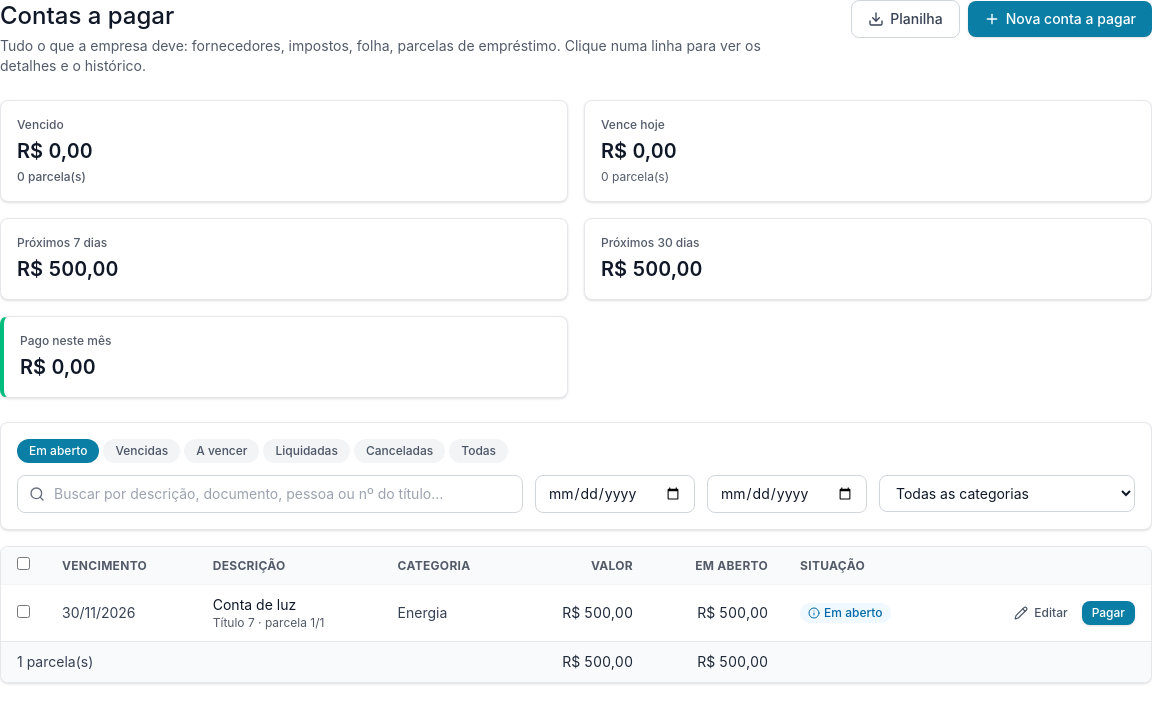
Test: Contas a pagar › pagar em lote: registra as selecionadas, avisa quantas e busca de novo
The image size is (1152, 720).
Expected: the text "Conta de luz" is shown, [213,596,296,613]
Click the checkbox named "Selecionar Conta de luz": (24, 612) [17,605,30,618]
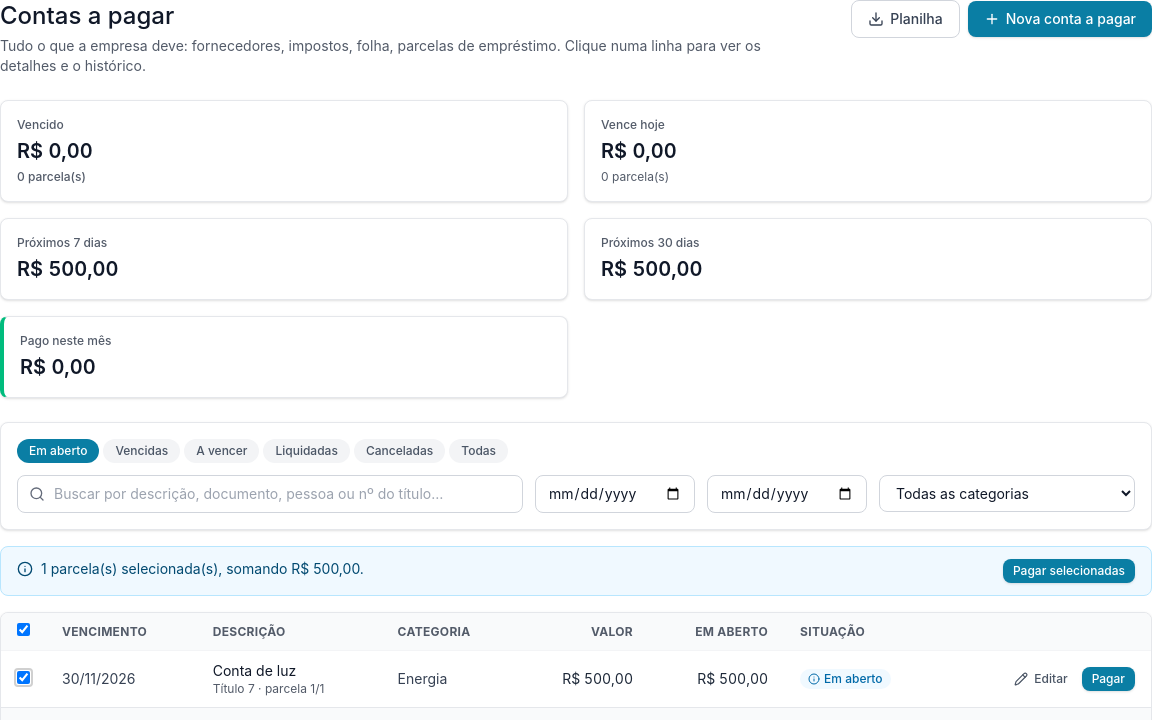
Click the button "Pagar selecionadas": (1069, 571) [1003,559,1135,583]
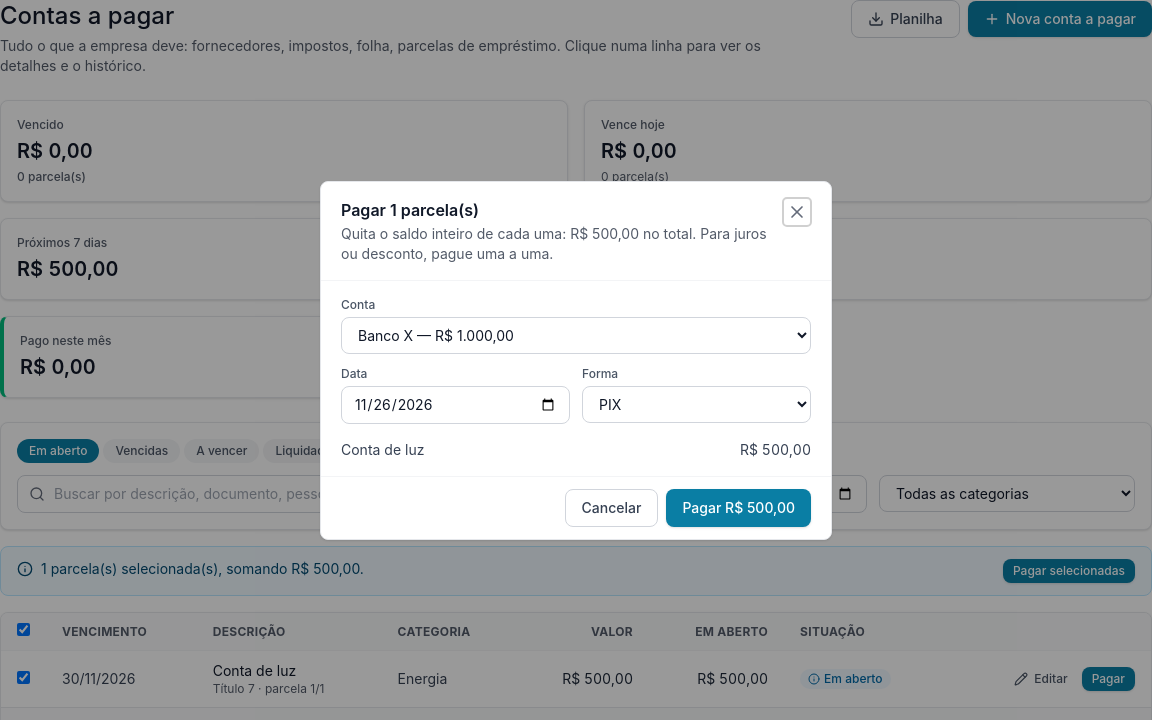
Click the button "Pagar R$ 500,00": (739, 508) [666,488,811,526]
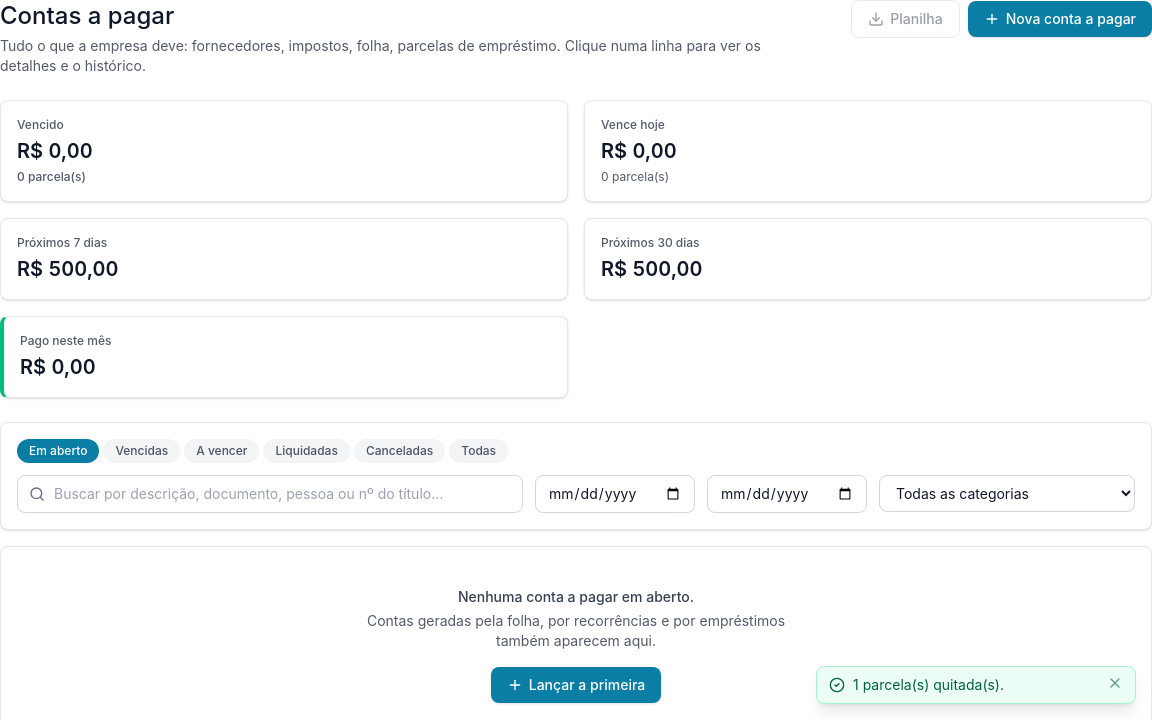
Now the text "1 parcela(s) quitada(s)." is shown, box [853,676,1004,693]
Now the text "Nenhuma conta a pagar em aberto." is shown, box [458,588,694,605]
